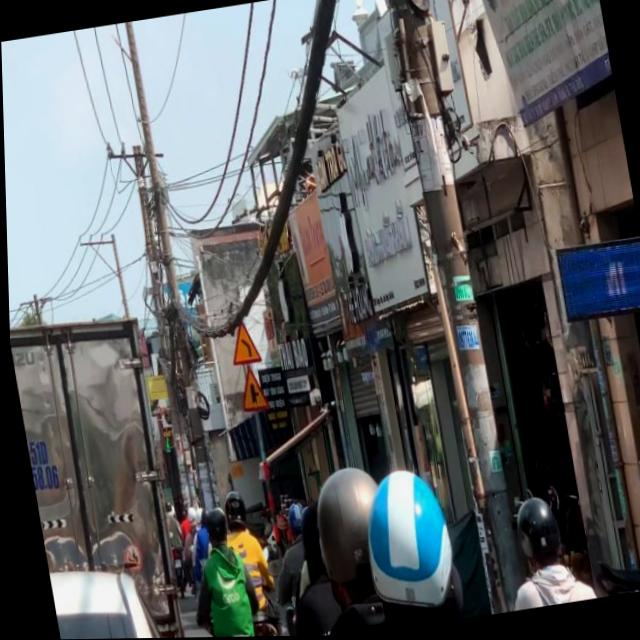Giao nhau voi duong khong uu tien ben phai: (233, 363, 270, 418)
cho ngoat nguy hiem vong ben trai: (222, 312, 262, 369)
